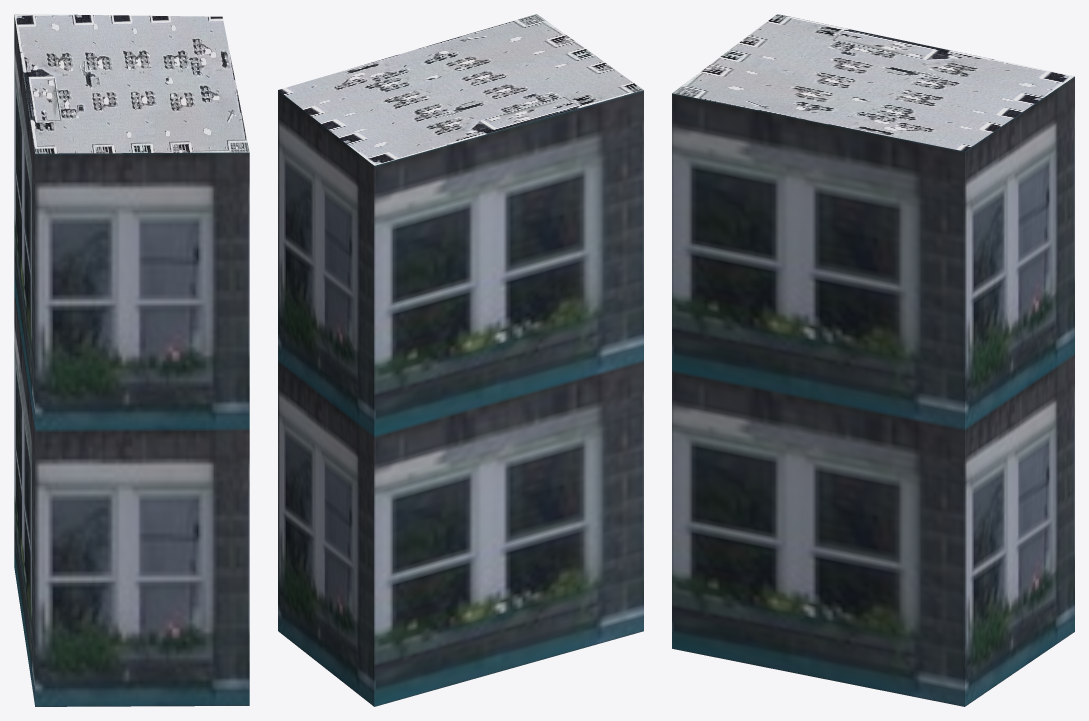
Rendered from ResTex__2729.fbx.
3 views of the same model, side by side, from view 1: azimuth 30°, elevation 25°; view 2: azimuth 150°, elevation 25°; view 3: azimuth 270°, elevation 25° (orthographic). The views are drawn at different scales.
Parts seen in each view (by area): view 1: CityEngineMaterial_11_m, CityEngineMaterial_m; view 2: CityEngineMaterial_11_m, CityEngineMaterial_m; view 3: CityEngineMaterial_11_m, CityEngineMaterial_m.
Boxes of the visible parts, x1,y1,x2,y2 form: CityEngineMaterial_11_m: (14,15,249,706); CityEngineMaterial_m: (14,14,249,153); CityEngineMaterial_11_m: (278,90,643,706); CityEngineMaterial_m: (278,14,643,165); CityEngineMaterial_11_m: (672,76,1074,706); CityEngineMaterial_m: (672,14,1074,151).
Bounding box in the file's own units: 3.19 × 6 × 3.95.
Materials: 2 (2 with a texture image).
